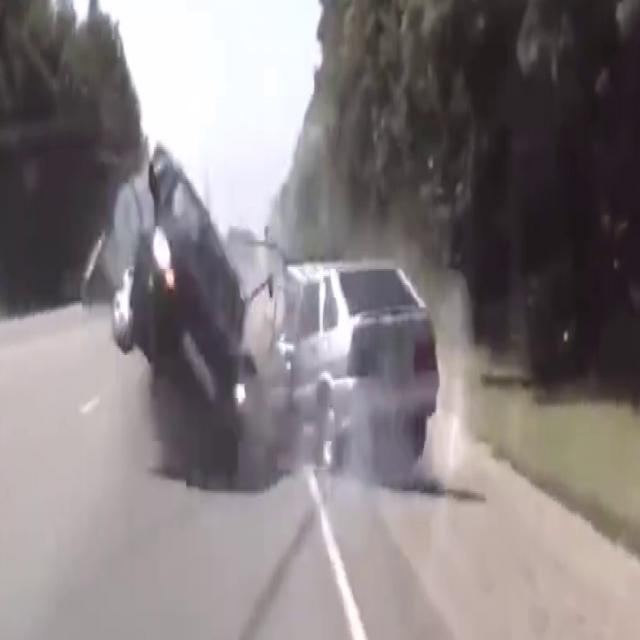accident: (93, 136, 458, 490), (104, 102, 262, 492)
